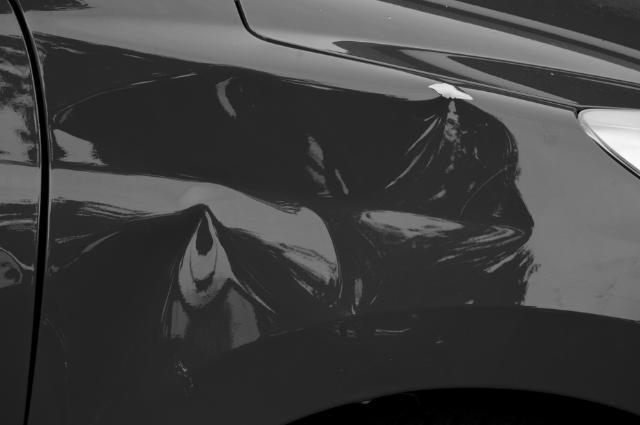Fender: (27, 24, 598, 425)
